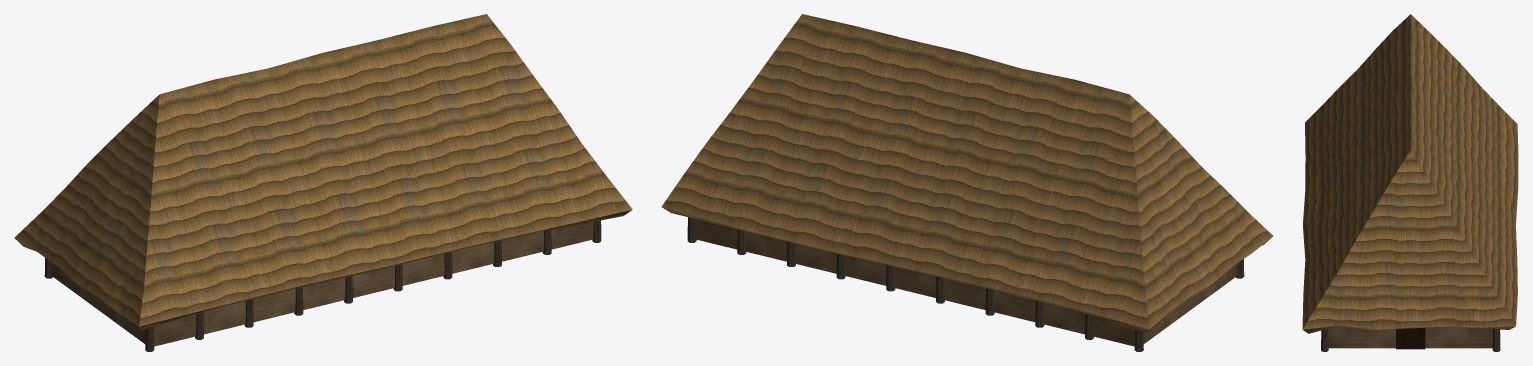
The model's file is casa_lunga_grande.glb.
3 renders of one model, left to right at view 1: azimuth 30°, elevation 25°; view 2: azimuth 150°, elevation 25°; view 3: azimuth 270°, elevation 25°, orthographic. The views are drawn at different scales.
Parts seen in each view (by area): view 1: casa_lunga_grande; view 2: casa_lunga_grande; view 3: casa_lunga_grande.
Boxes of the visible parts, box(x1,y1,x2,y2) form: casa_lunga_grande: box(14, 14, 632, 351); casa_lunga_grande: box(661, 14, 1273, 351); casa_lunga_grande: box(1302, 14, 1518, 351).
Bounding box in the file's own units: 19.85 × 7.93 × 8.81.
4 materials, 4 textured.
